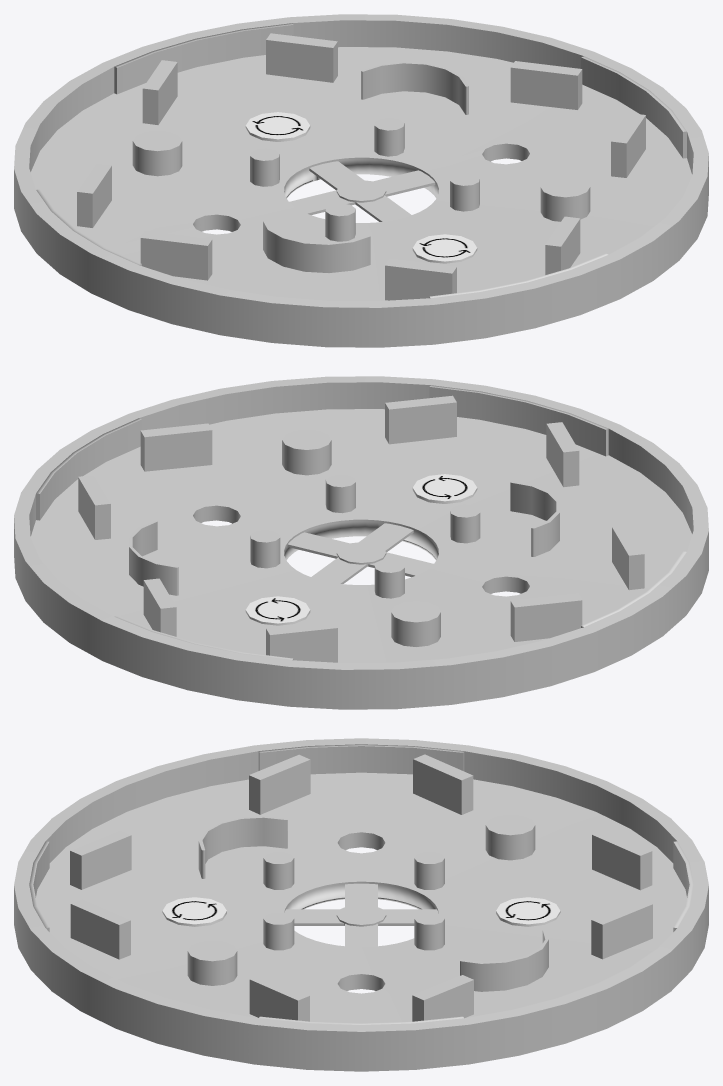
Rendered from Groundplane.fbx.
The picture shows the model from 3 angles, top to bottom: view 1: azimuth 30°, elevation 25°; view 2: azimuth 150°, elevation 25°; view 3: azimuth 270°, elevation 25°; orthographic projection.
Parts seen in each view (by area): view 1: Groundplane, Groundplane.001, BouncyWalls, SM_Rail1, SM_Rail2, BouncyWalls.003, SM_NotBouncy6, SM_NotBouncy7, SM_NotBouncy2, SM_NotBouncy3, Circle.007, Circle.005 (+15 smaller); view 2: Groundplane, Groundplane.001, BouncyWalls.002, BouncyWalls.003, SM_NotBouncy5, SM_NotBouncy4, SM_NotBouncy1, SM_NotBouncy8, SM_Rail1, Circle.005, SM_Rail2, Circle.007 (+15 smaller); view 3: Groundplane, Groundplane.001, BouncyWalls.001, SM_Rail1, SM_NotBouncy2, SM_NotBouncy3, SM_NotBouncy7, SM_NotBouncy1, SM_NotBouncy8, SM_NotBouncy4, SM_Rail2, SM_NotBouncy6 (+16 smaller).
Boxes of the visible parts, x1,y1,x2,y2 form: Groundplane: (30,47,692,300); Groundplane.001: (14,14,708,347); BouncyWalls: (114,23,293,94); SM_Rail1: (263,220,370,272); SM_Rail2: (361,62,468,114); BouncyWalls.003: (581,56,686,158); SM_NotBouncy6: (510,61,582,109); SM_NotBouncy7: (266,33,337,82); SM_NotBouncy2: (140,231,212,280); SM_NotBouncy3: (385,259,456,300); Circle.007: (132,130,182,176); Circle.005: (540,176,590,221); Groundplane: (30,409,692,662); Groundplane.001: (14,376,708,709); BouncyWalls.002: (429,385,608,456); BouncyWalls.003: (36,418,141,520); SM_NotBouncy5: (140,423,212,471); SM_NotBouncy4: (385,395,456,444); SM_NotBouncy1: (510,593,582,641); SM_NotBouncy8: (266,621,337,662); SM_Rail1: (510,481,559,556); Circle.005: (282,429,331,475); SM_Rail2: (129,520,178,595); Circle.007: (391,601,440,646); Groundplane: (36,772,686,1023); Groundplane.001: (14,738,708,1071); BouncyWalls.001: (258,744,464,774); SM_Rail1: (198,816,287,878); SM_NotBouncy2: (249,754,310,814); SM_NotBouncy3: (70,830,131,889); SM_NotBouncy7: (591,899,652,959); SM_NotBouncy1: (413,754,473,814); SM_NotBouncy8: (592,830,652,890); SM_NotBouncy4: (70,899,130,959); SM_Rail2: (460,929,548,991); SM_NotBouncy6: (412,975,473,1021).
Bounding box in the file's own units: 2798 × 285 × 2798.
